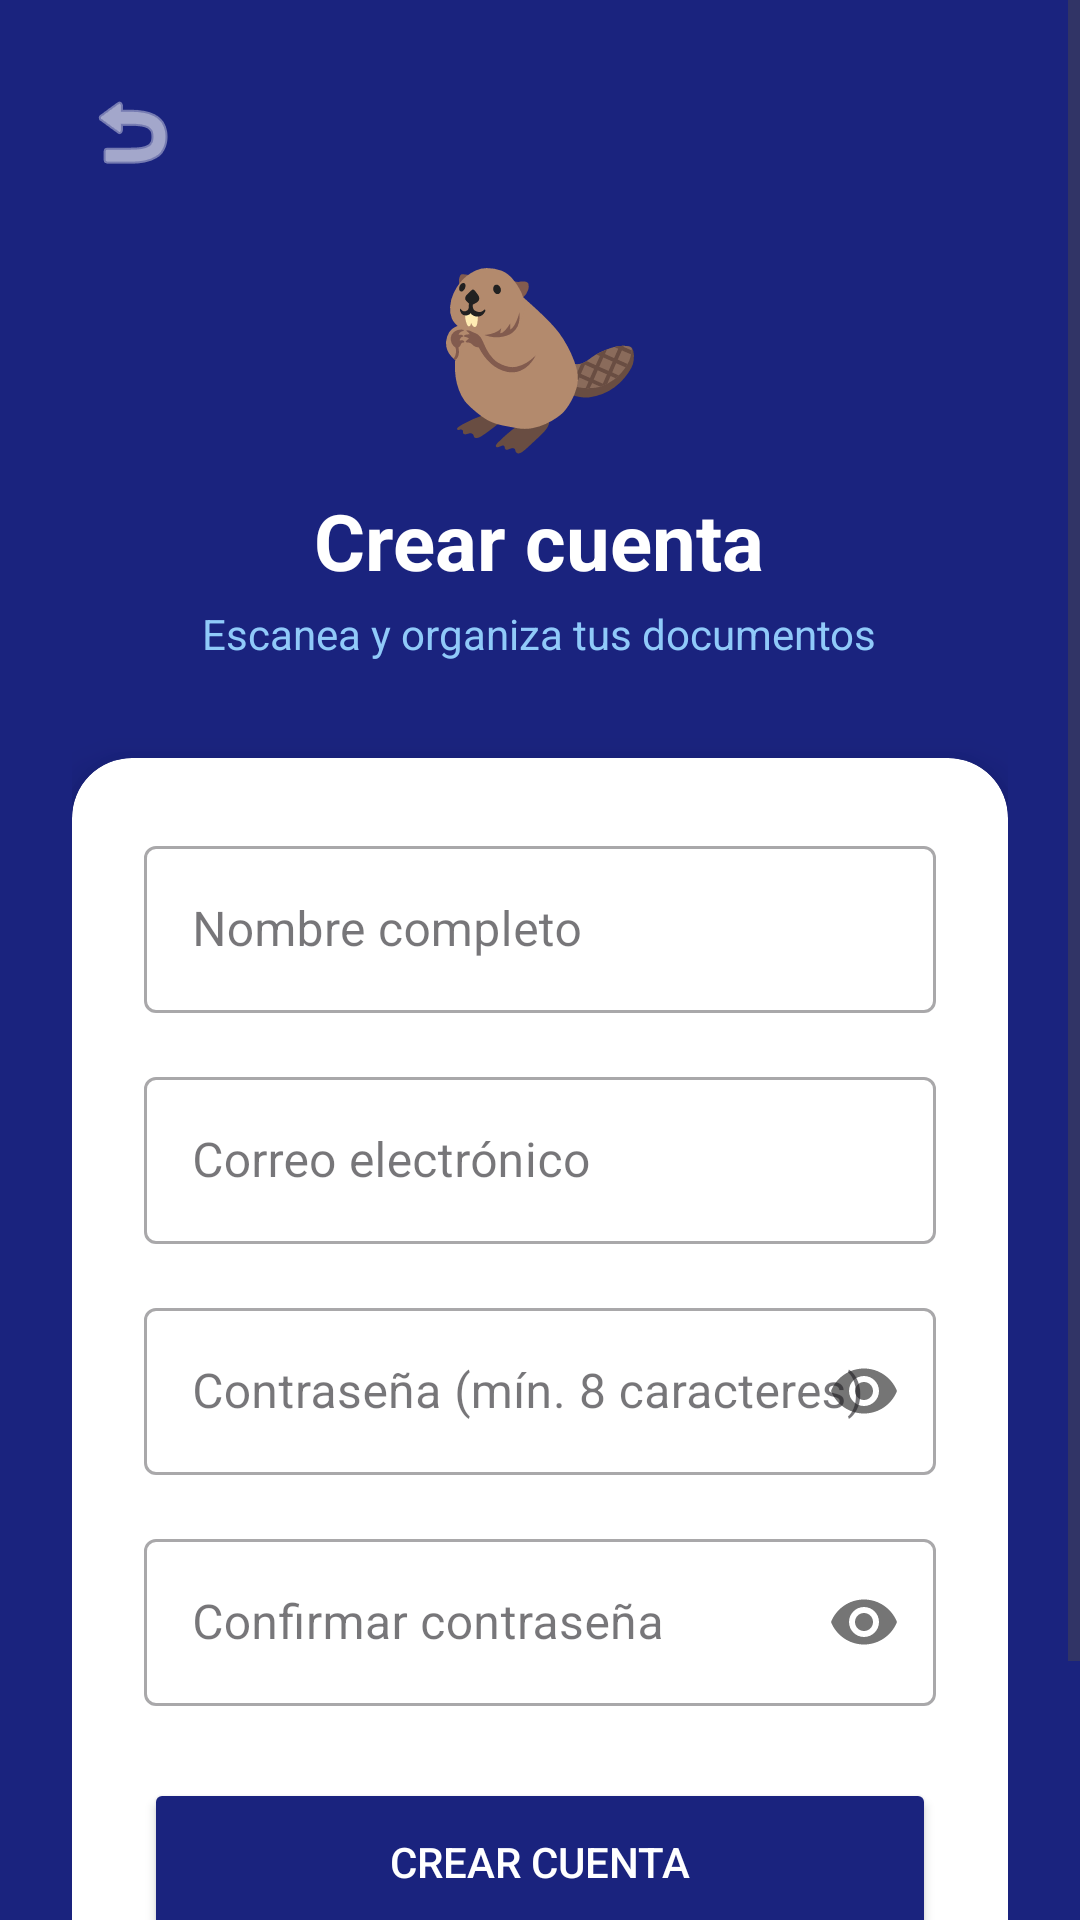

Locate icon controls on the screen. Image size 1080px x 1920px, boxes as (x1, y1, x2, y2).
Volver: (99, 101, 168, 164)
